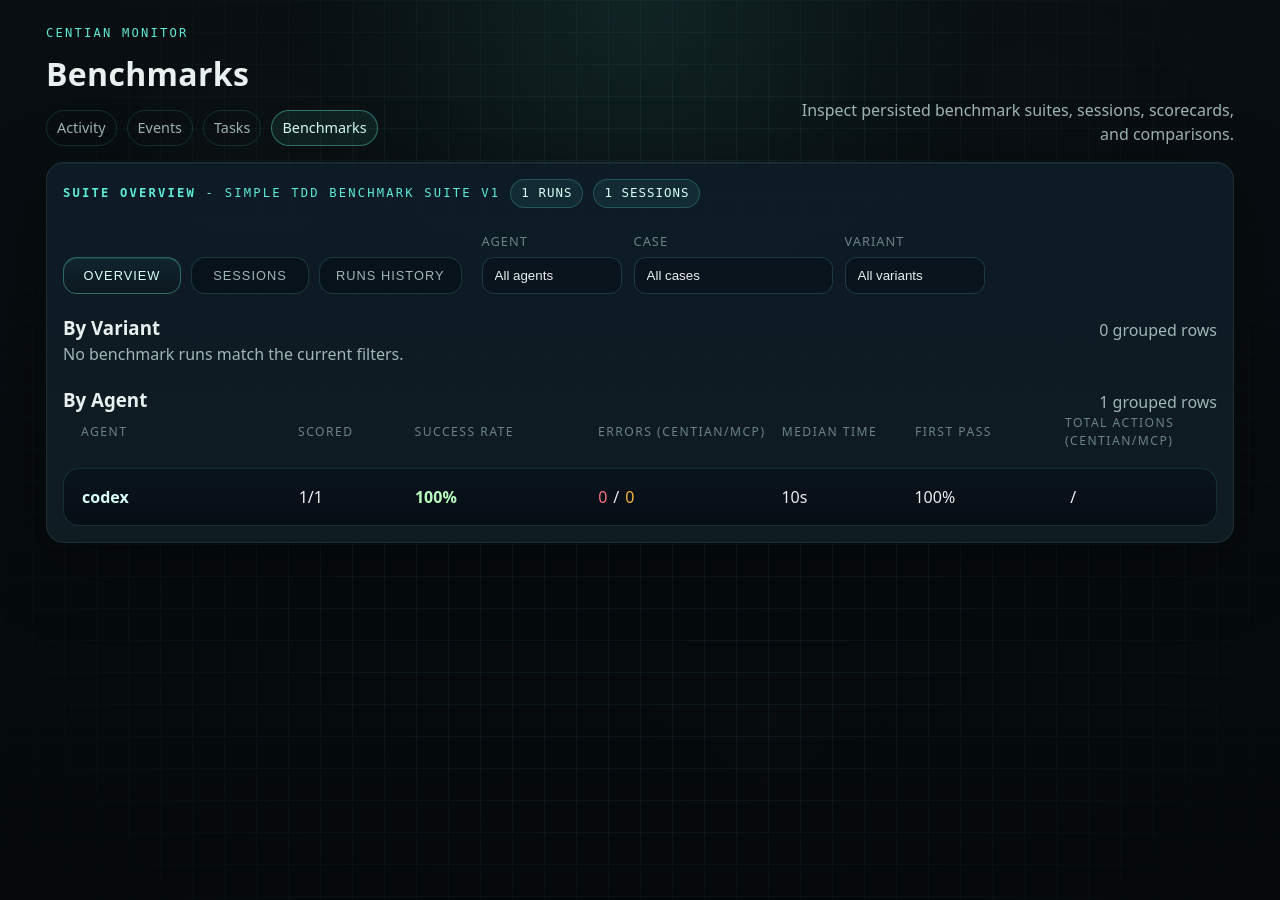
Test case: benchmark routes › renders the suite overview
expect the heading "By Variant" is shown: met, box x1=63 y1=314 x2=160 y2=342
expect the heading "By Agent" is shown: met, box x1=63 y1=386 x2=147 y2=414
Click the tab "Sessions" at (250,275), box x1=191 y1=257 x2=309 y2=294
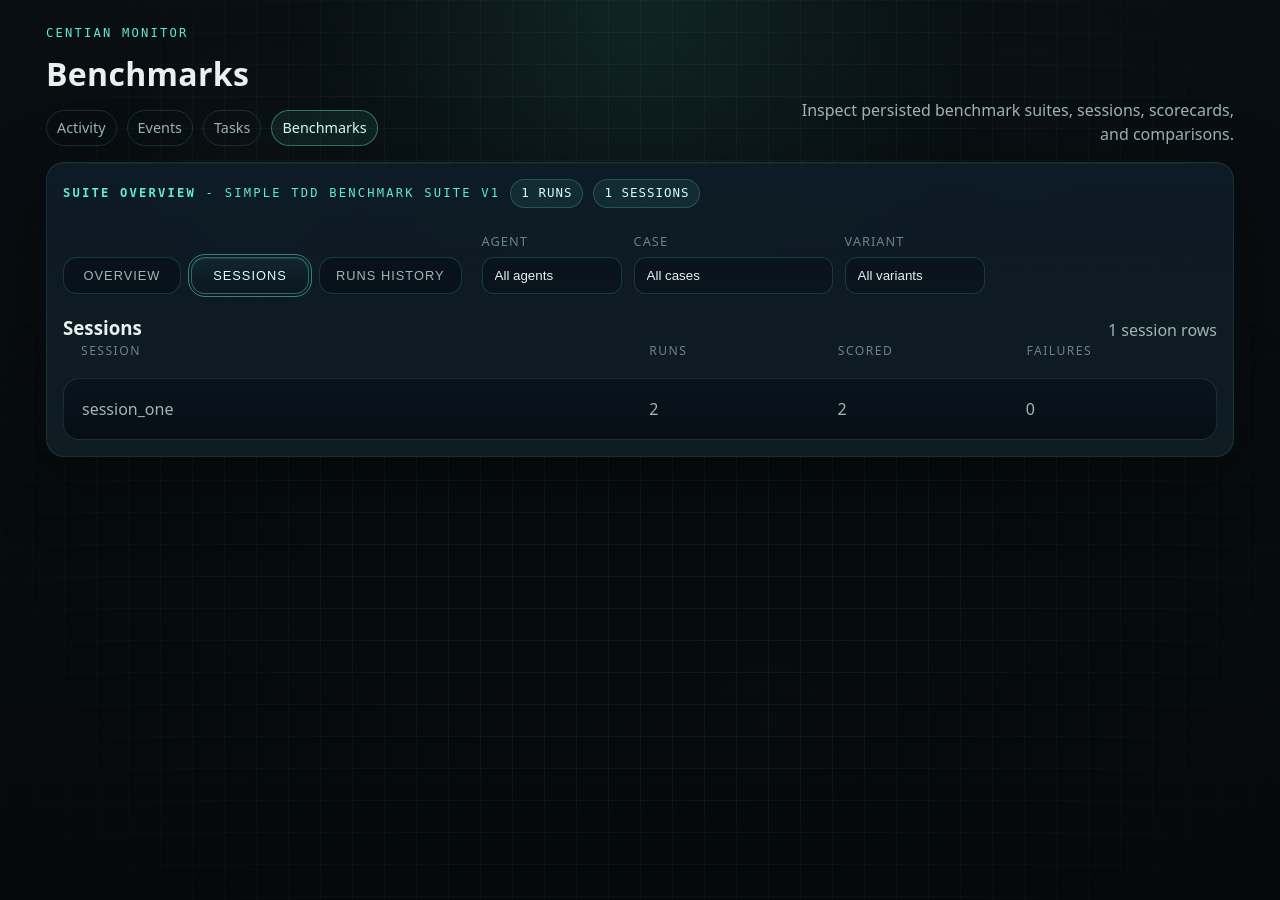
expect the heading "Sessions" is shown: met, box x1=63 y1=314 x2=142 y2=342
expect the heading "By Variant" is gone: met
expect the text "session_one" is shown: met, box x1=82 y1=398 x2=173 y2=420
Click the tab "Runs History" at (390,275), box x1=319 y1=257 x2=462 y2=294
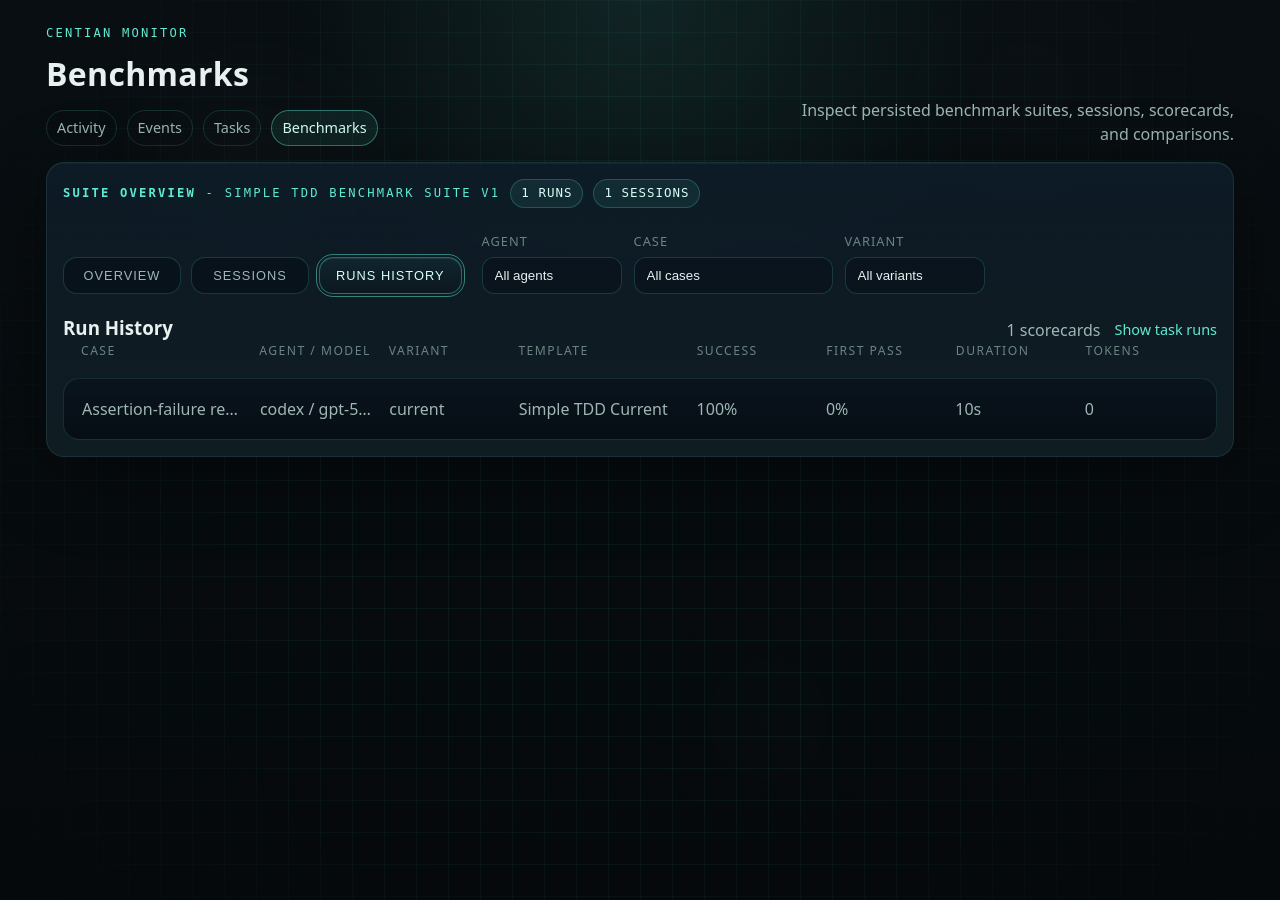
expect the heading "Run History" is shown: met, box x1=63 y1=314 x2=173 y2=342
expect the text "codex / gpt-5.4-mini" is shown: met, box x1=260 y1=397 x2=373 y2=421
